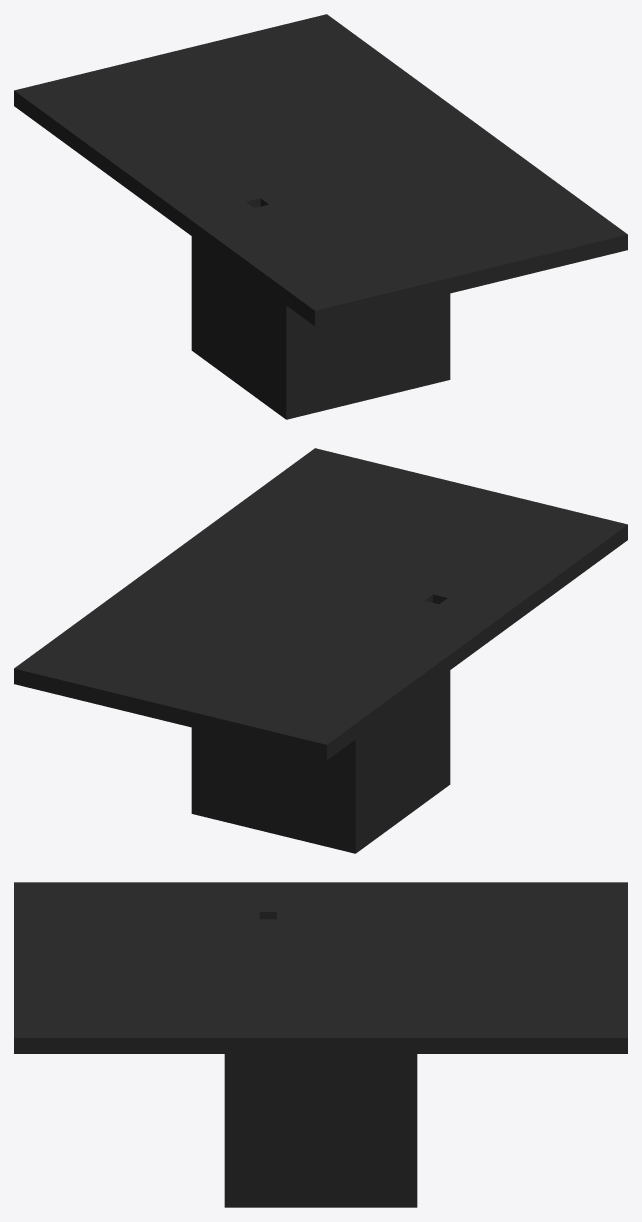
The model's file is Dashboard.obj.
3 renders of one model, top to bottom at view 1: azimuth 30°, elevation 25°; view 2: azimuth 150°, elevation 25°; view 3: azimuth 270°, elevation 25°, orthographic.
Size of the model in its own units: 21 by 13 by 35.
1 material, 1 textured.
